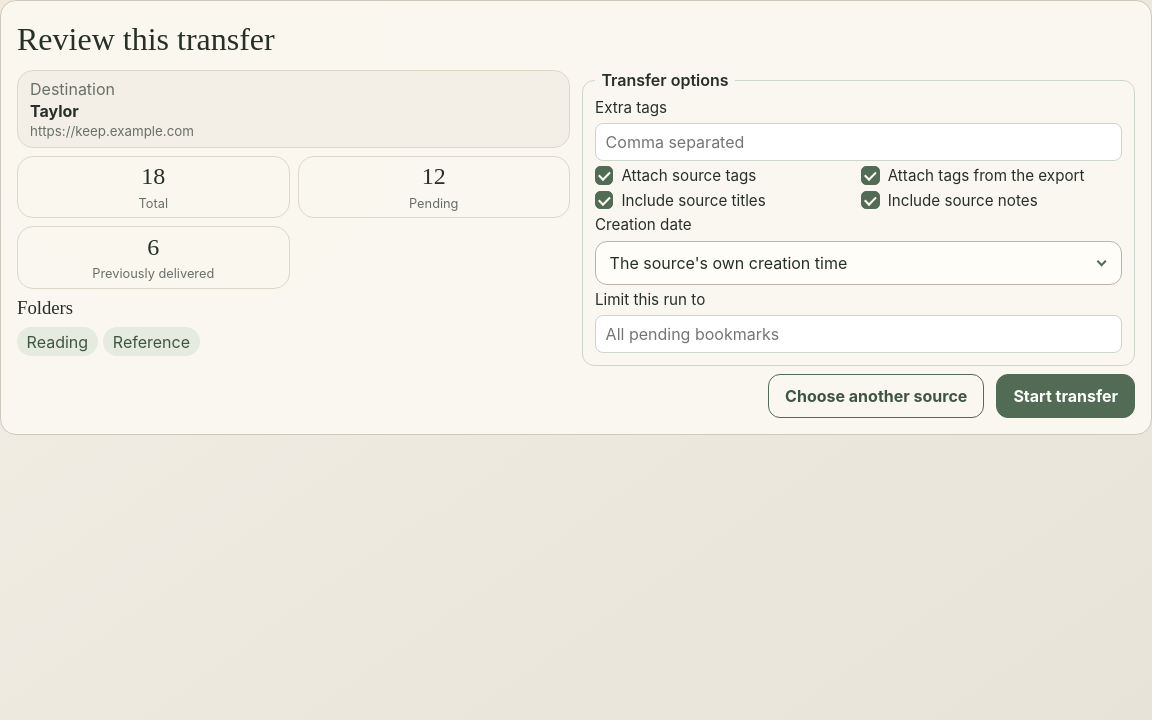
Test: TransferReview › dismisses the confirmation with Escape
Click the button "Start transfer" at (1066, 396), box [996,374,1135,418]
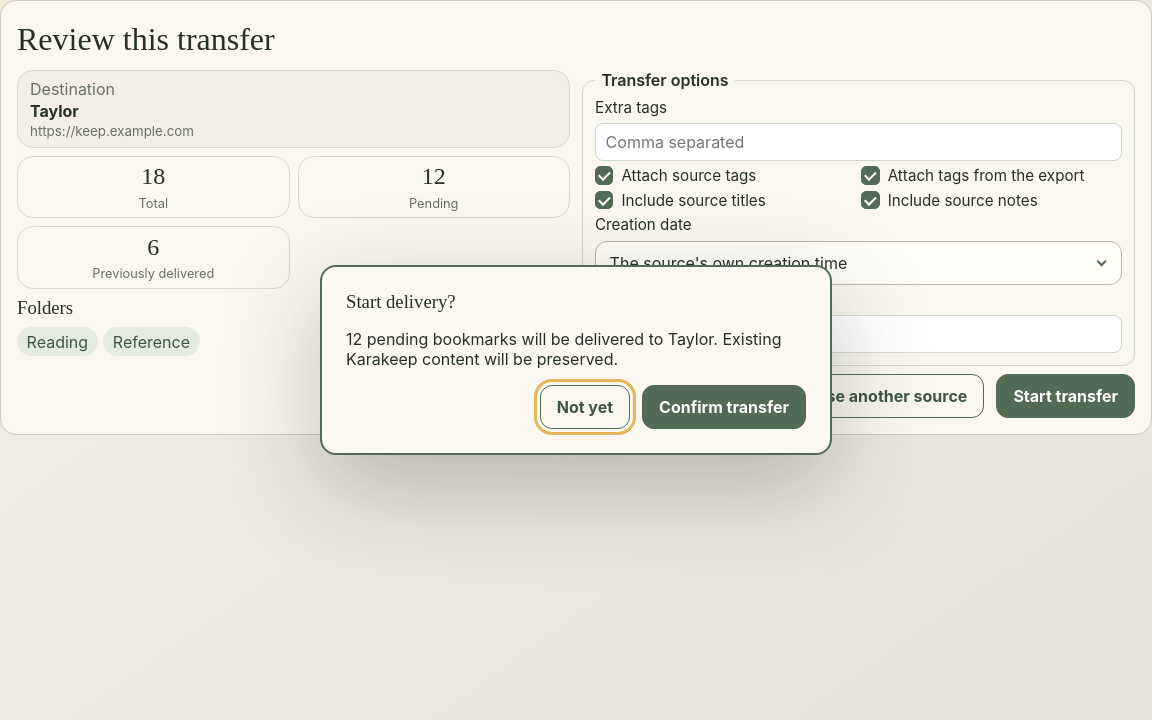
Press Escape in the dialog, box [320,265,832,455]
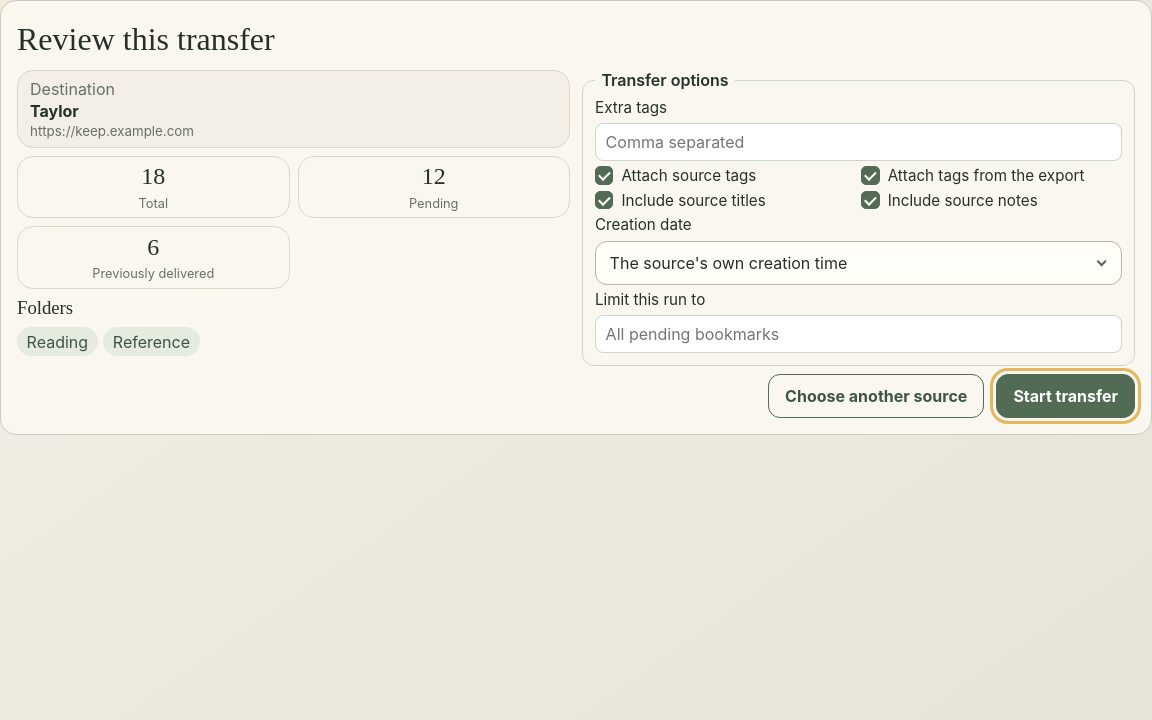
Check: the dialog is gone
